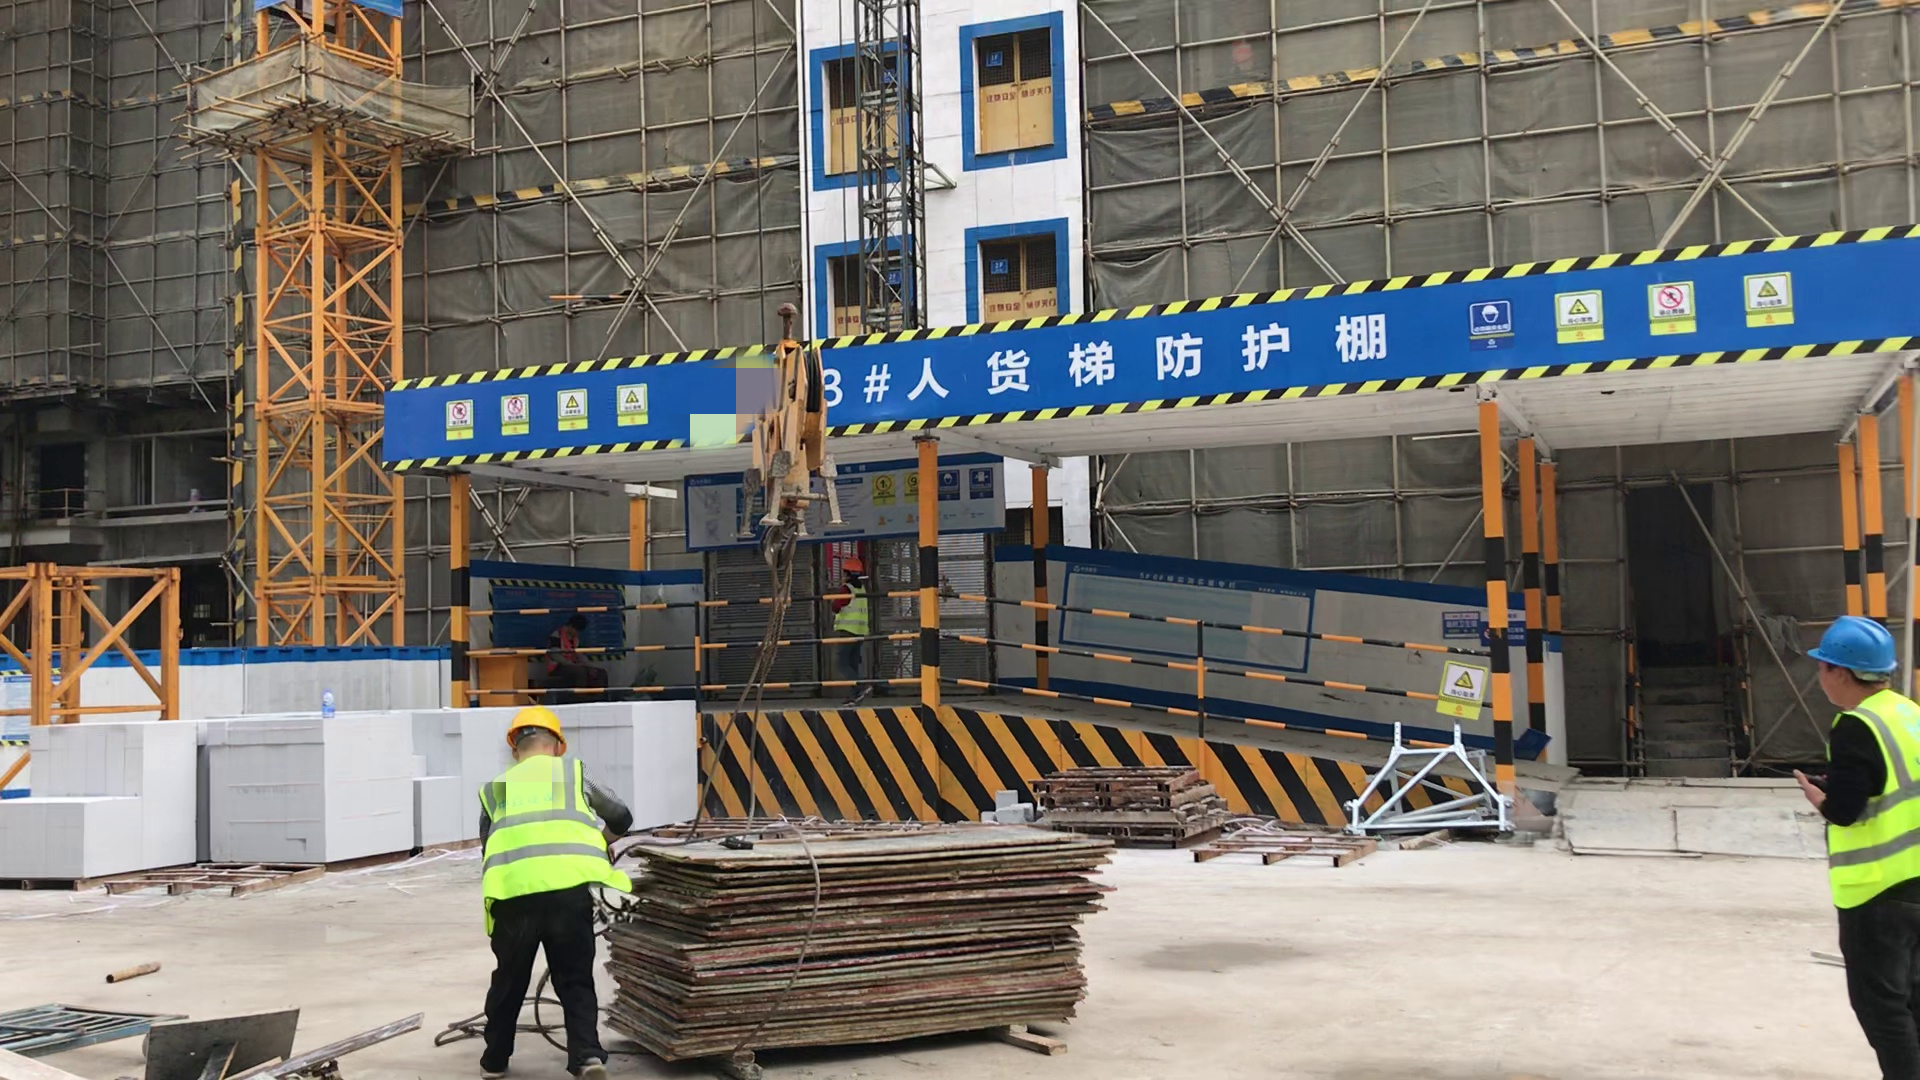board: (617, 837, 1110, 1047)
brick: (210, 713, 476, 864), (1, 713, 204, 878), (592, 698, 701, 825)
ebox: (477, 650, 526, 704)
handcart: (1, 1001, 189, 1052)
helmet: (1808, 611, 1903, 684), (504, 705, 570, 753), (838, 558, 865, 576)
hook: (743, 295, 834, 584)
person: (1795, 601, 1919, 1080), (477, 701, 630, 1080), (823, 555, 880, 712), (548, 609, 606, 692)
slogan: (863, 307, 1388, 406), (1464, 264, 1797, 359), (435, 381, 653, 447), (1432, 660, 1492, 734)
vest: (475, 755, 631, 915), (1829, 691, 1920, 909), (838, 581, 870, 638), (553, 628, 578, 663)
